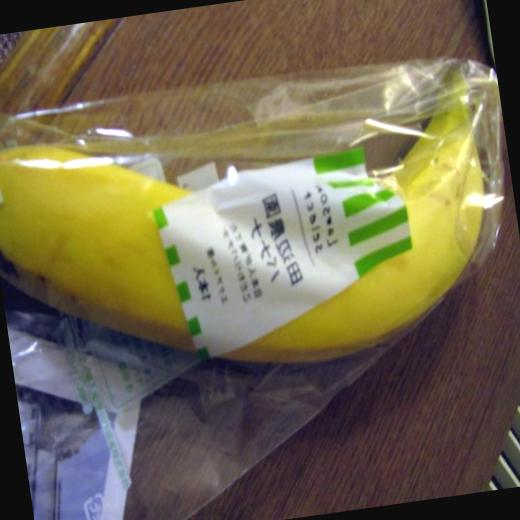Banana: (7, 103, 520, 396)
